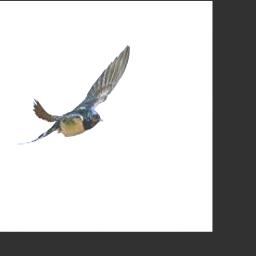Swallow: (16, 43, 131, 147)
